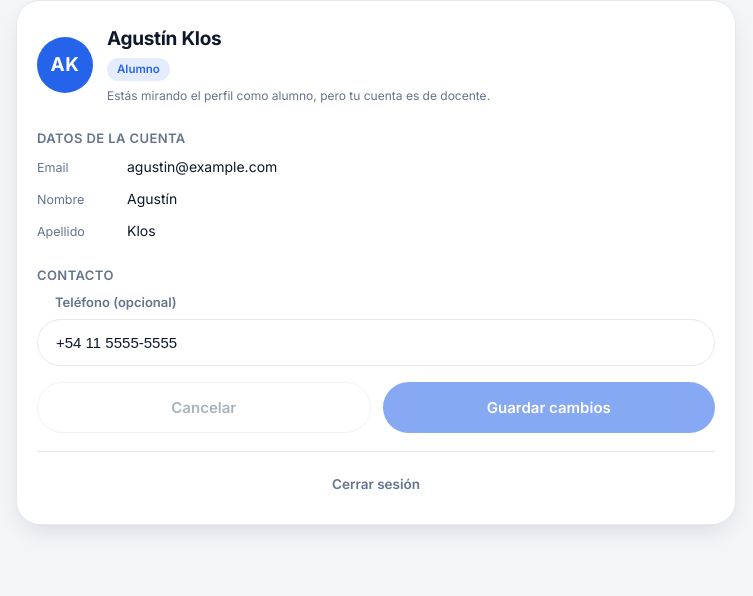
Test case: ProfilePage › avisa si falla el guardado
The width and height of the screenshot is (753, 596).
In the field labelled "Teléfono (opcional)": [376, 342] box top-left (37, 318), bottom-right (715, 366), type "9"
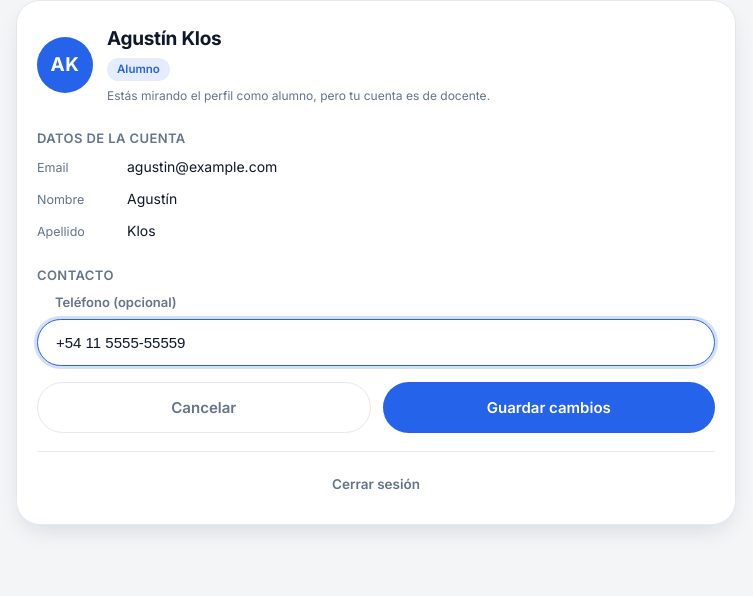
Click the button "Guardar cambios": [549, 407] box top-left (382, 382), bottom-right (715, 432)
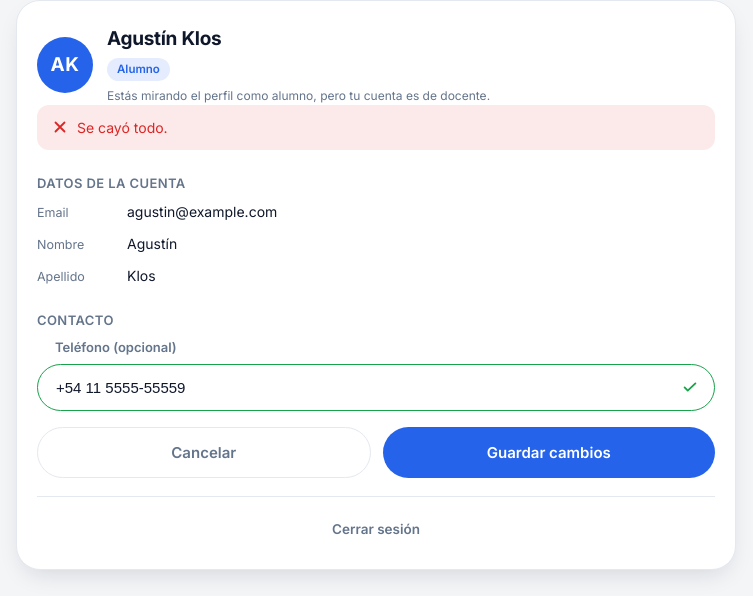
Now the message reads "Se cayó todo.", box top-left (77, 119), bottom-right (168, 136)
